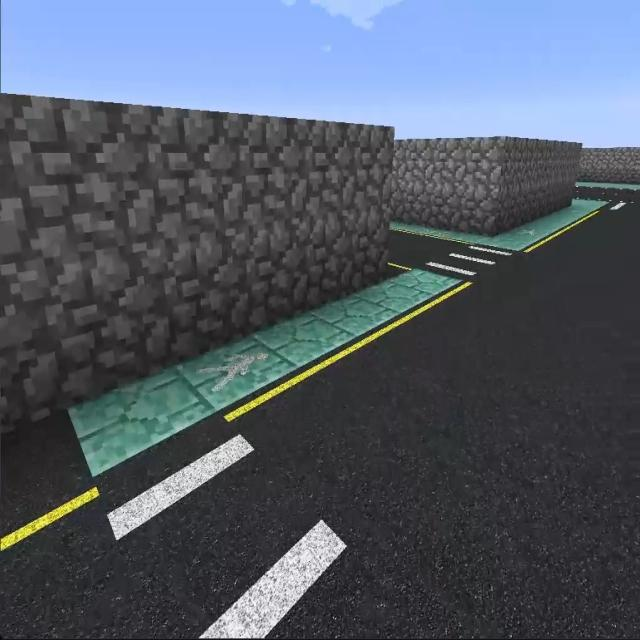crosswalk: (96, 409, 391, 639), (420, 242, 522, 278)
road: (228, 207, 638, 639), (7, 425, 124, 632), (392, 231, 450, 273)
sidewalk: (73, 269, 461, 473), (391, 200, 602, 250), (576, 182, 639, 189)
